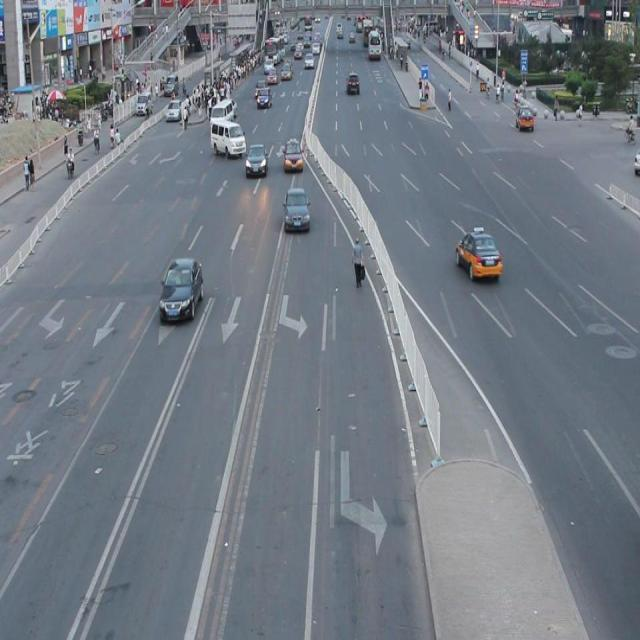car: (158, 255, 204, 322), (455, 230, 501, 282), (283, 187, 311, 235), (245, 142, 267, 180), (282, 139, 304, 173)
